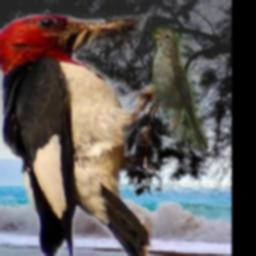Sparrow: (152, 26, 208, 151)
Woodpecker: (0, 12, 174, 256)
